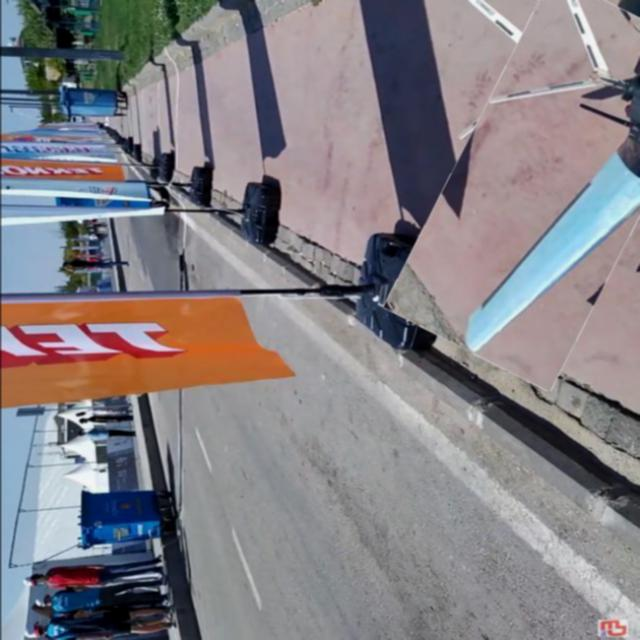plane: (382, 0, 640, 392)
